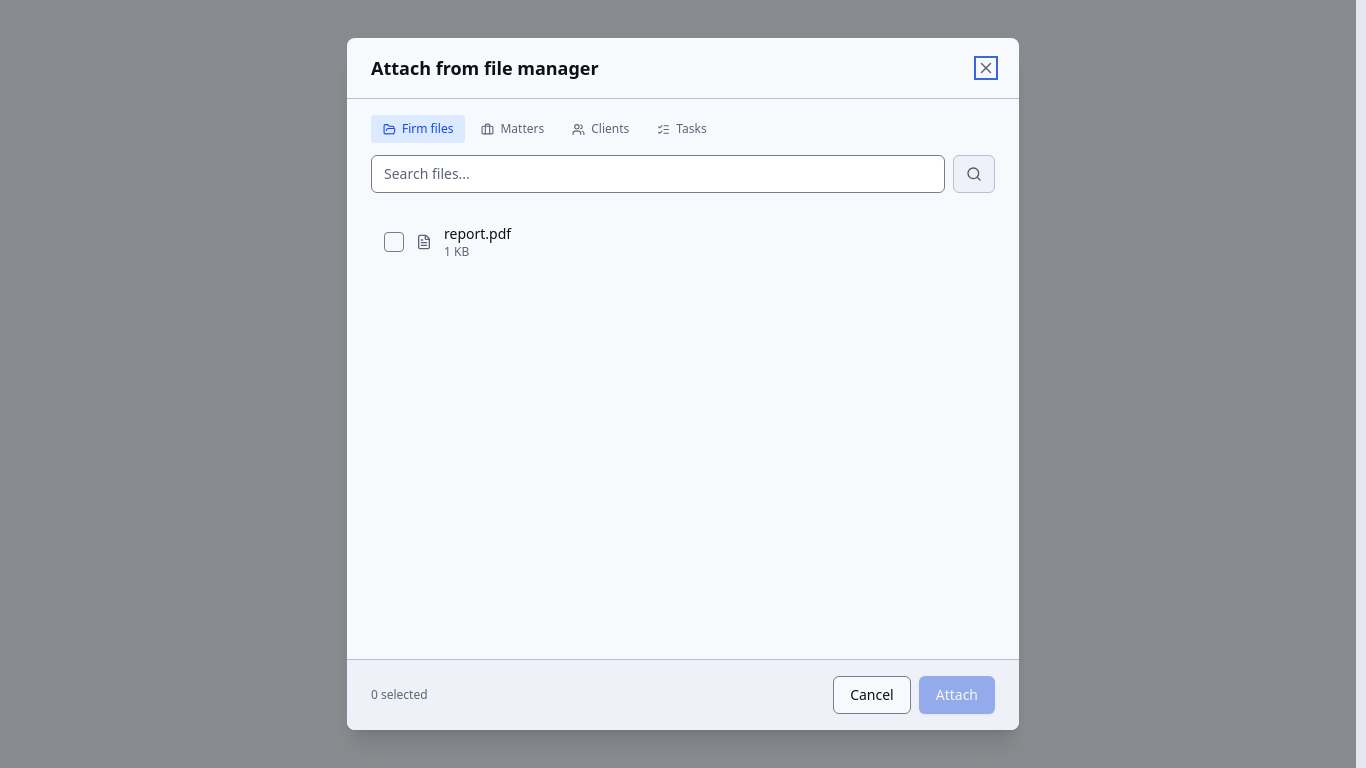
Scenario: MessageFilePicker source lists › notes that a scope's picker list is capped when the lookup has more
The image size is (1366, 768).
Click the button "Matters": (513, 129) [470,115,556,143]
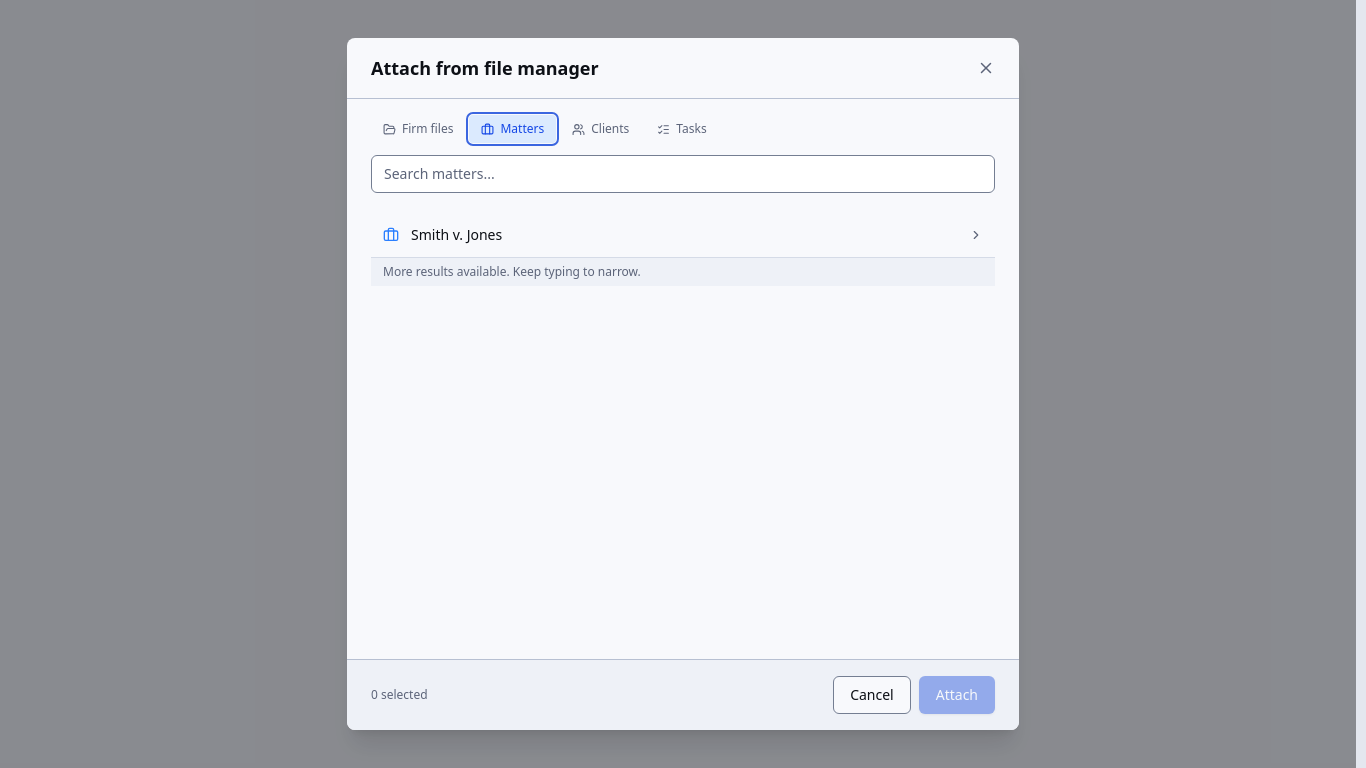
Result: the text "More results available. Keep typing to narrow." is shown at [371,257,995,286]
